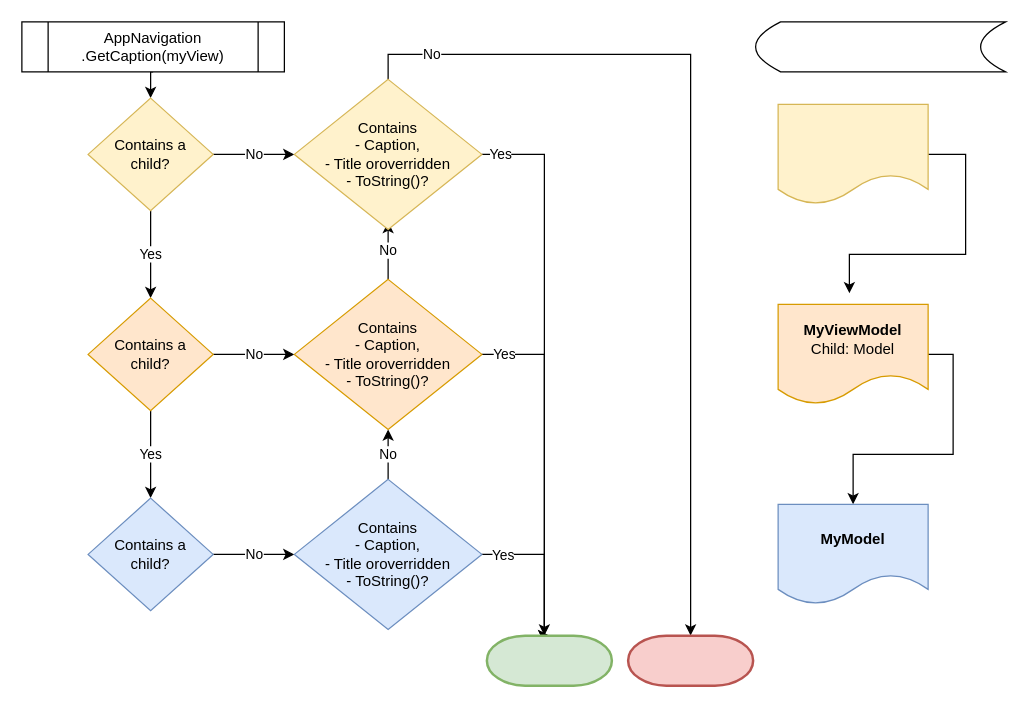
The diagram is 1028 pixels wide and 709 high, and some of its shapes have lost their labels. Each missing label, with the centre of its shape:
"Class Hierarchy" belongs at point 880,46.
"MyView Child: DataContext" belongs at point 852,153.
"NULL" belongs at point 690,660.
"RESULT" belongs at point 548,660.
